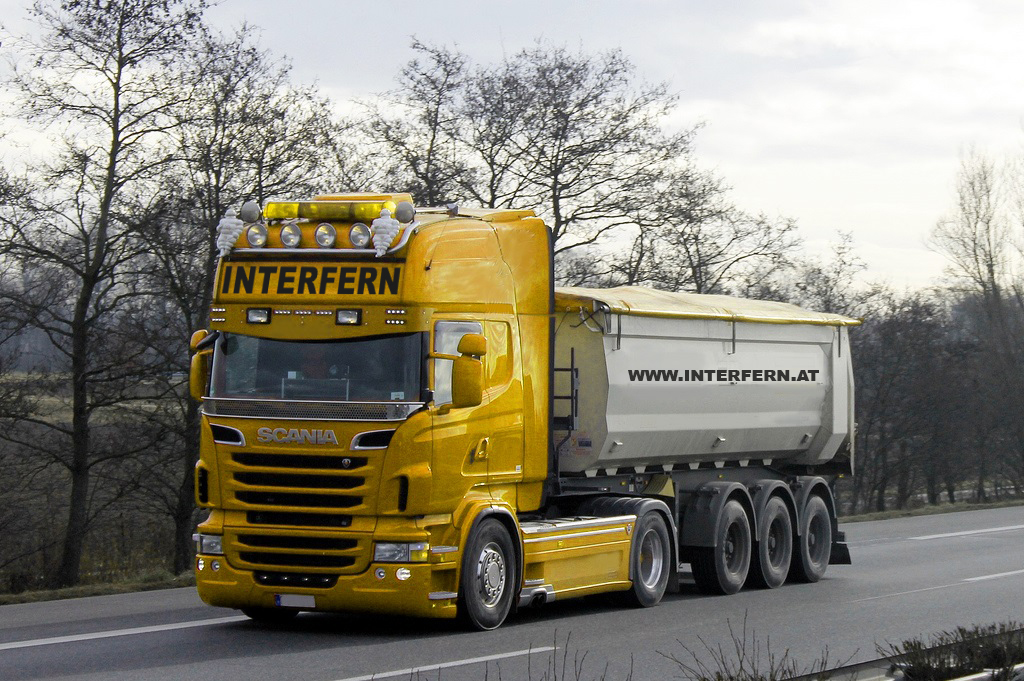truck: (192, 193, 847, 619)
